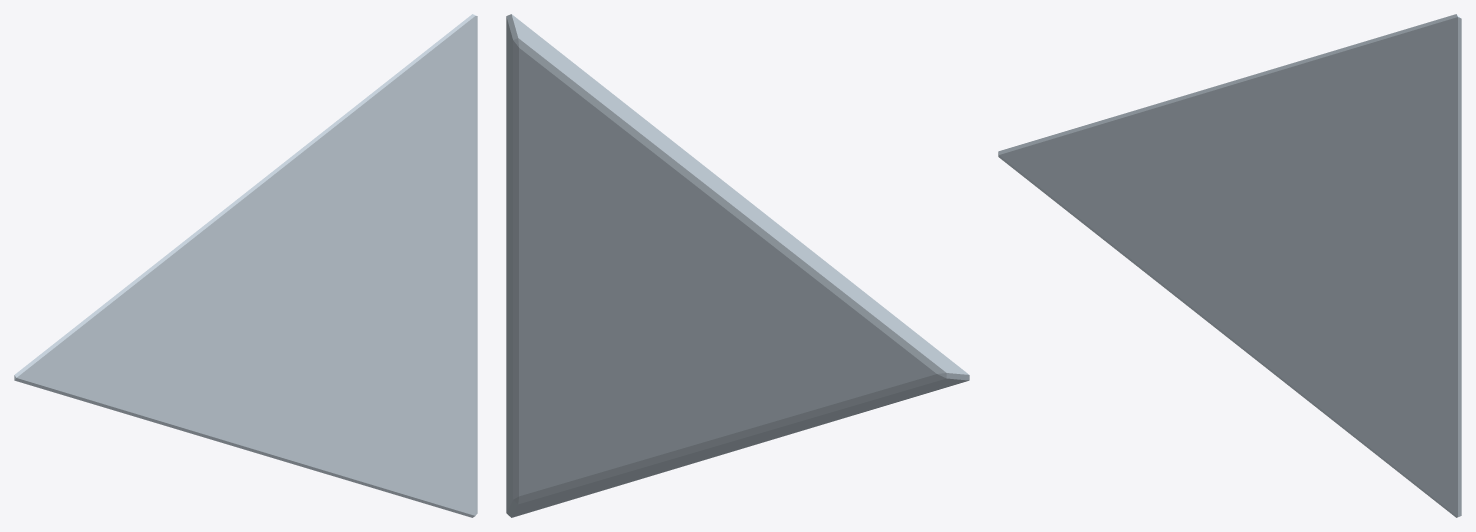
Rendered from Pause_3D_Icon.fbx.
3 renders of one model, left to right at view 1: azimuth 30°, elevation 25°; view 2: azimuth 150°, elevation 25°; view 3: azimuth 330°, elevation 25°, orthographic.
Parts seen in each view (by area): view 1: Pause_3D_Icon_01; view 2: Pause_3D_Icon_01; view 3: Pause_3D_Icon_01.
Part boxes in pixels (x1=…): Pause_3D_Icon_01: x1=14, y1=14, x2=477, y2=517; Pause_3D_Icon_01: x1=506, y1=14, x2=969, y2=517; Pause_3D_Icon_01: x1=998, y1=14, x2=1461, y2=517.
Bounding box in the file's own units: 87.07 × 90.53 × 1.63.
